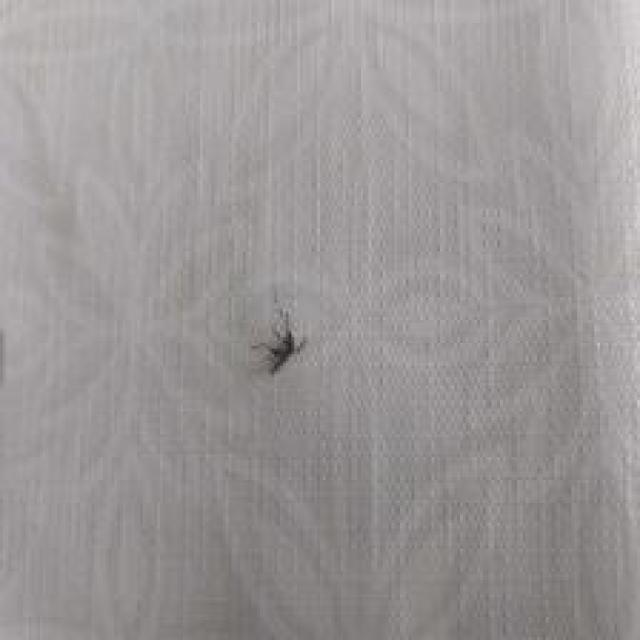Aedes albopictus: (250, 307, 307, 376)
